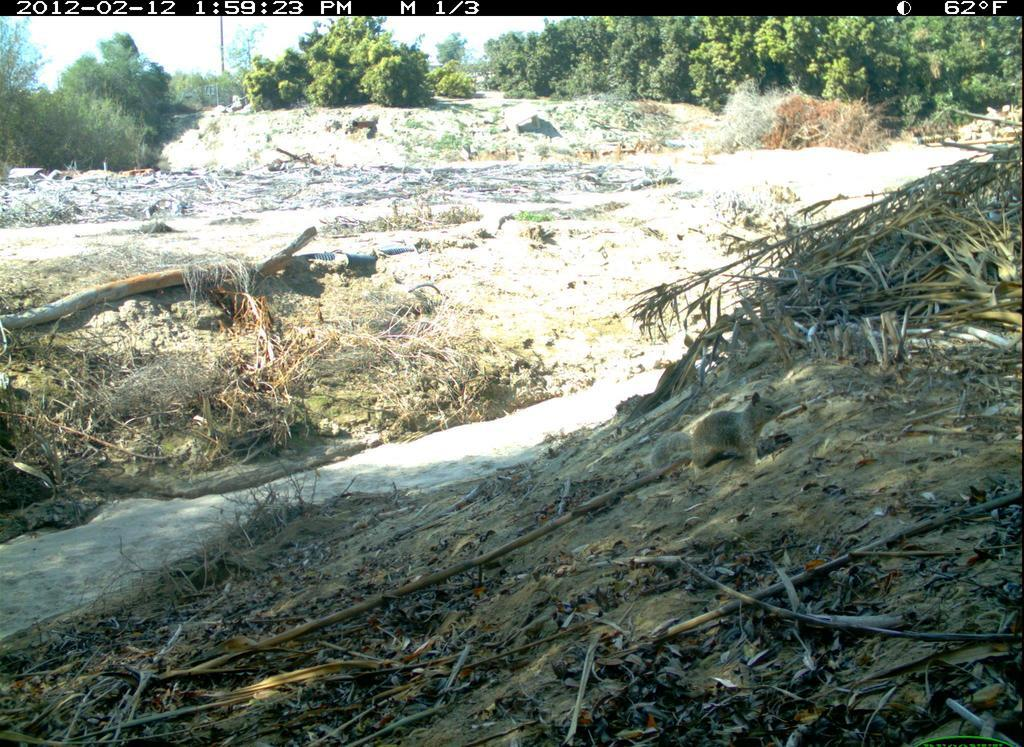squirrel: (648, 391, 792, 484)
